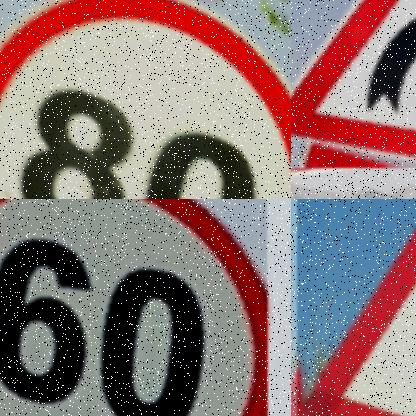Speed Limit -80 kmph-: (0, 0, 291, 199)
U-Turn: (298, 229, 416, 416)
